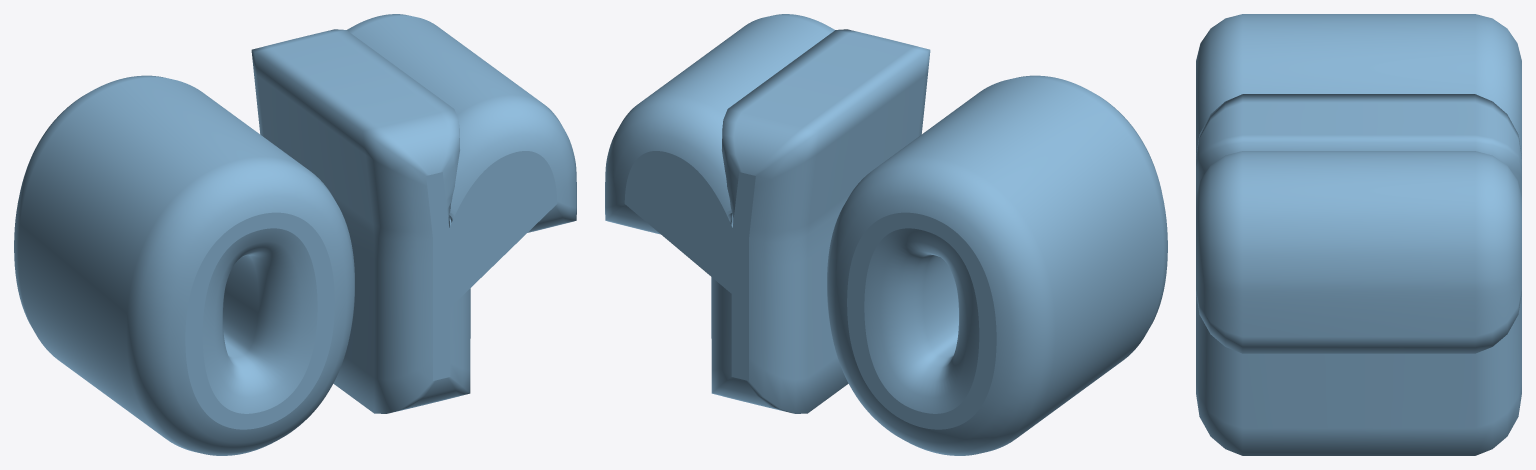
The picture shows the model from 3 angles, left to right: view 1: azimuth 30°, elevation 25°; view 2: azimuth 150°, elevation 25°; view 3: azimuth 270°, elevation 25°; orthographic projection. The views are drawn at different scales.
Parts seen in each view (by area): view 1: polySurface5; view 2: polySurface5; view 3: polySurface5.
Part boxes in pixels (x1,y1,x2,y2): polySurface5: (14,14,576,455); polySurface5: (605,14,1167,455); polySurface5: (1196,14,1521,455).
Size of the model in its own units: 1.19 by 0.7443 by 0.7.
